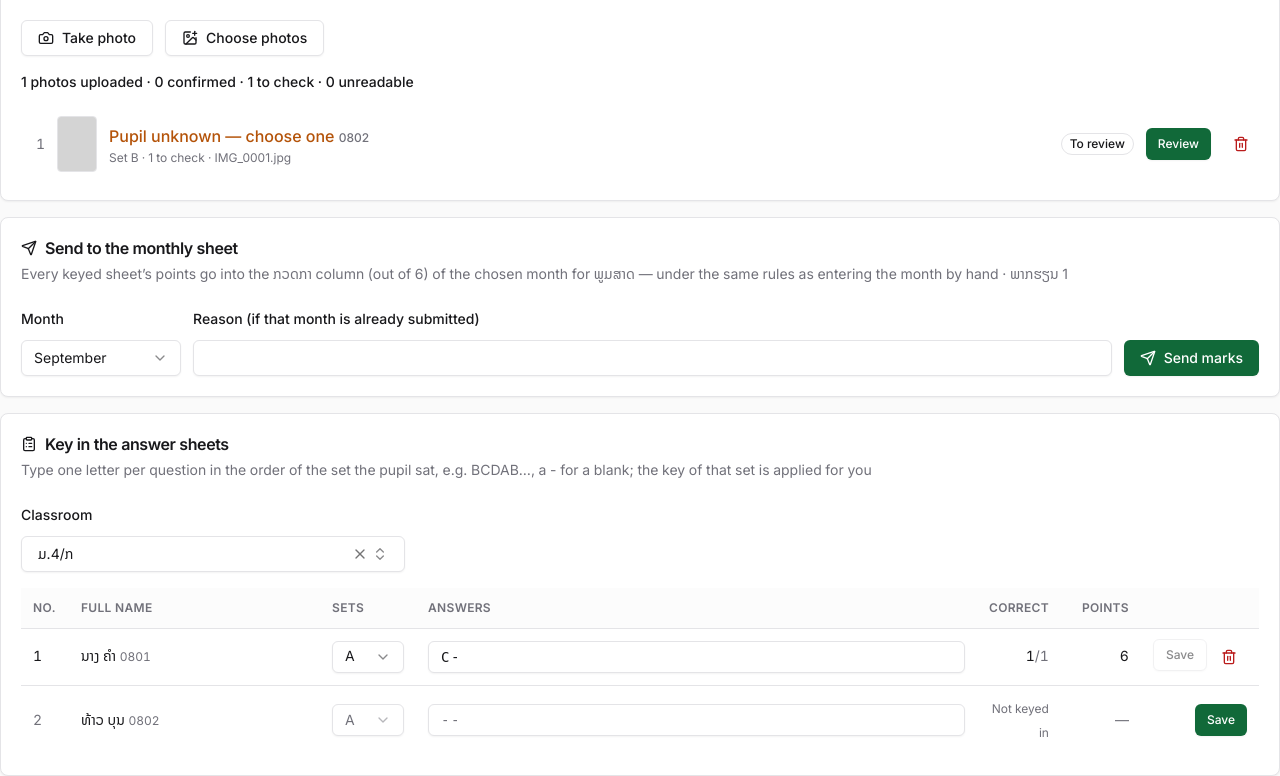
it: the results › refuses more letters than the paper has questions
The width and height of the screenshot is (1280, 776).
(page scrolled)
In the field named "Answers ທ້າວ ບຸນ": {"x": 697, "y": 720} [428,704,965,736], type "ABC"
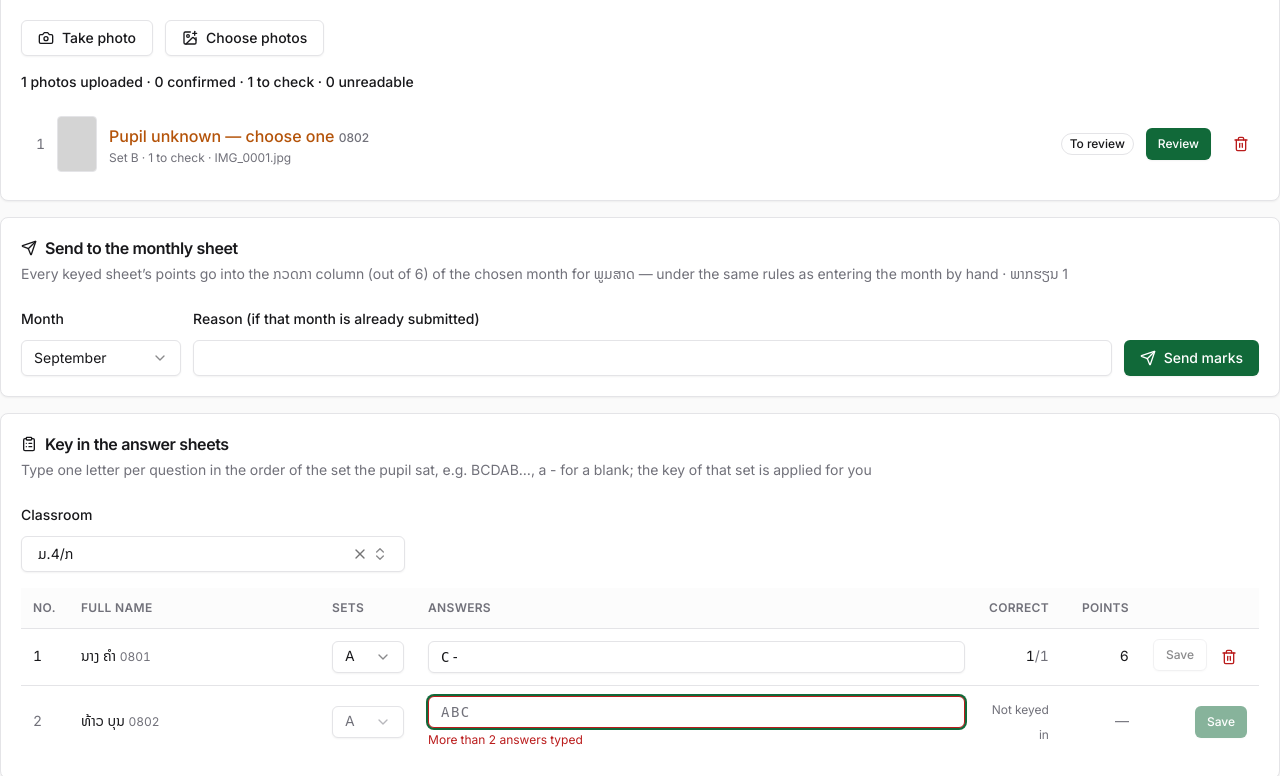
Now the text "More than 2 answers typed" is shown, box [428,730,583,750]
Now the button "Save" in the row of "ທ້າວ ບຸນ" is disabled, box [1195,706,1247,738]
